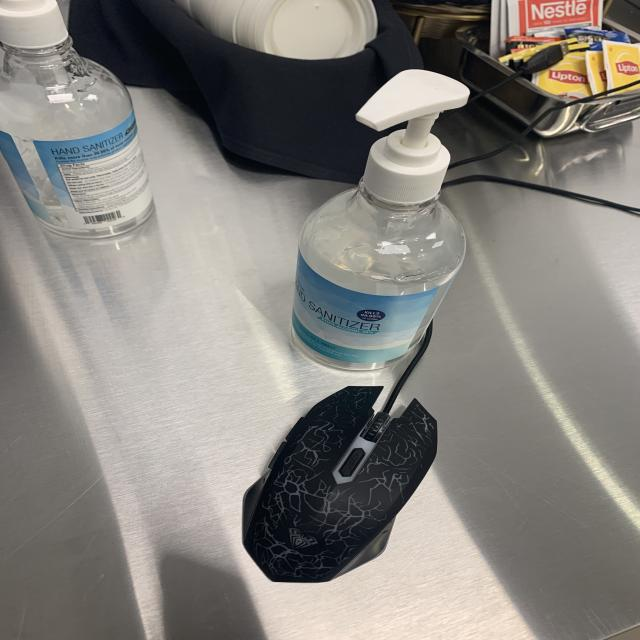Mouse: (232, 381, 456, 587)
